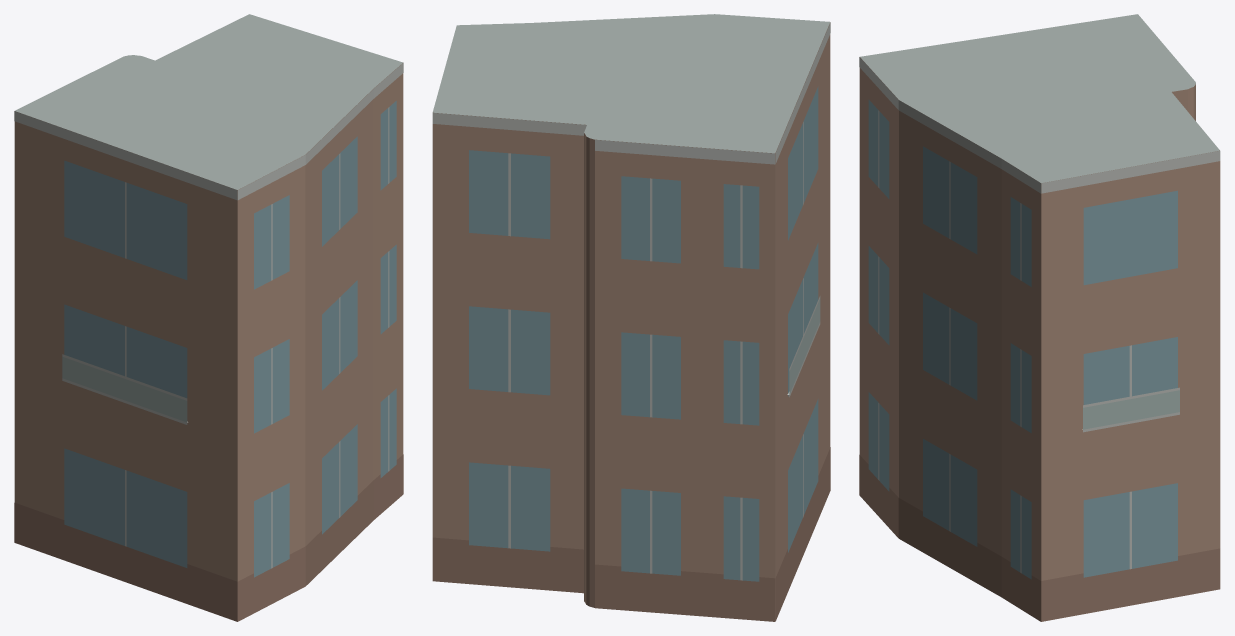
The model's file is survey-upis-32503596.glb.
3 renders of one model, left to right at view 1: azimuth 30°, elevation 25°; view 2: azimuth 150°, elevation 25°; view 3: azimuth 270°, elevation 25°, orthographic. The views are drawn at different scales.
Parts seen in each view (by area): view 1: survey-upis-32503596.tmp; view 2: survey-upis-32503596.tmp; view 3: survey-upis-32503596.tmp.
Boxes of the visible parts, x1,y1,x2,y2 form: survey-upis-32503596.tmp: (14,14,403,621); survey-upis-32503596.tmp: (432,14,830,621); survey-upis-32503596.tmp: (859,14,1220,621).
Bounding box in the file's own units: 8.45 × 10.2 × 7.61.
